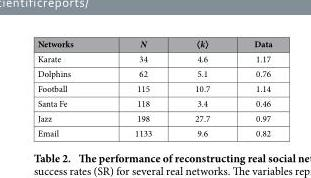table: (36, 36, 271, 138)
table column: (103, 36, 172, 138), (36, 36, 103, 138), (172, 36, 231, 138), (231, 36, 271, 138)
table column header: (36, 36, 271, 51)
table row: (36, 36, 271, 51), (36, 65, 271, 80), (36, 80, 271, 95), (36, 95, 271, 110), (36, 110, 271, 125), (36, 51, 271, 65), (36, 125, 271, 138)
